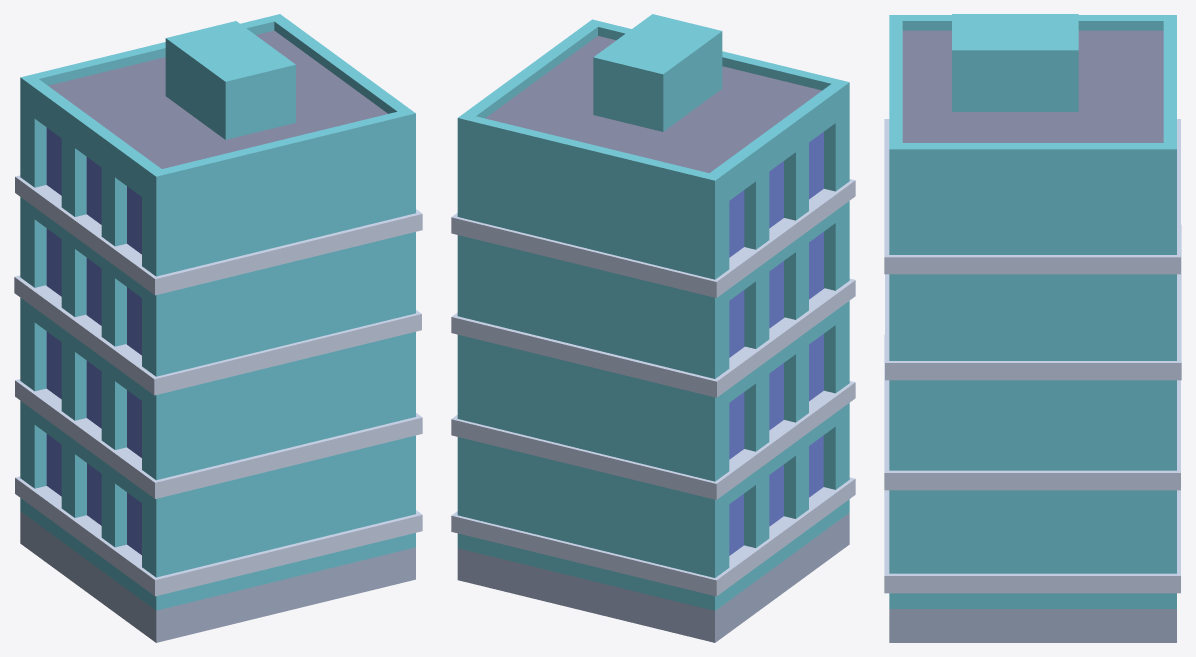
The model's file is House 3.fbx.
The picture shows the model from 3 angles, left to right: view 1: azimuth 30°, elevation 25°; view 2: azimuth 150°, elevation 25°; view 3: azimuth 270°, elevation 25°; orthographic projection. The views are drawn at different scales.
Visible parts, largest first — view 1: House 3; view 2: House 3; view 3: House 3.
Part boxes in pixels (x1,y1,x2,y2): House 3: (14,14,422,642); House 3: (451,14,855,642); House 3: (884,14,1181,642).
Bounding box in the file's own units: 1157 × 2124 × 1049.
Materials: 1 (1 with a texture image).
